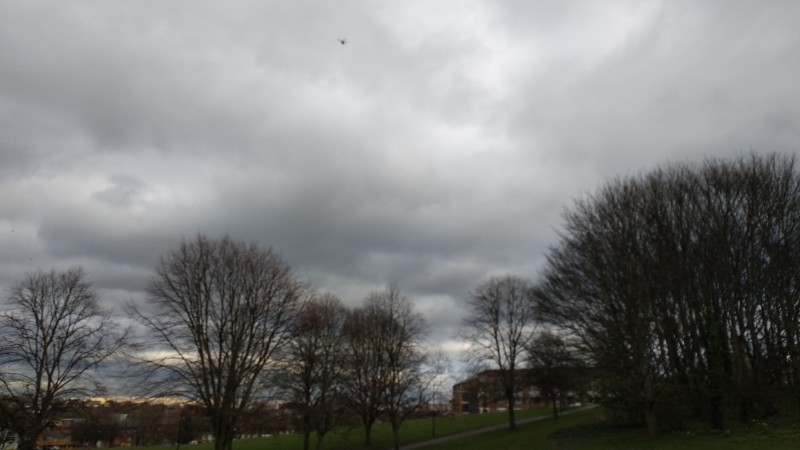drone: (338, 37, 350, 46)
